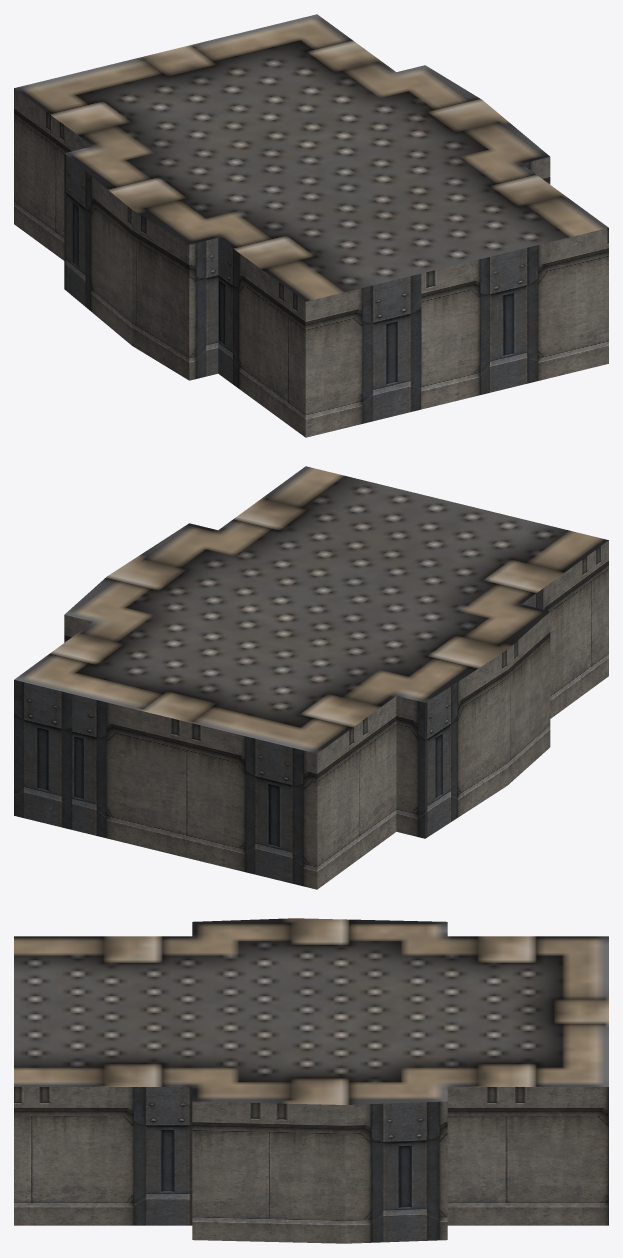
The model's file is building_heavy_a_08.glb.
3 views of the same model, one above another, from view 1: azimuth 30°, elevation 25°; view 2: azimuth 150°, elevation 25°; view 3: azimuth 270°, elevation 25° (orthographic).
Visible parts, largest first — view 1: buildings/saxarba/building_heavy/building_heavy_a_08; view 2: buildings/saxarba/building_heavy/building_heavy_a_08; view 3: buildings/saxarba/building_heavy/building_heavy_a_08.
Part boxes in pixels (<box>): buildings/saxarba/building_heavy/building_heavy_a_08: <box>14,14,608,437</box>; buildings/saxarba/building_heavy/building_heavy_a_08: <box>14,466,608,889</box>; buildings/saxarba/building_heavy/building_heavy_a_08: <box>14,918,608,1243</box>.
Bounding box in the file's own units: 52 × 18 × 70.
